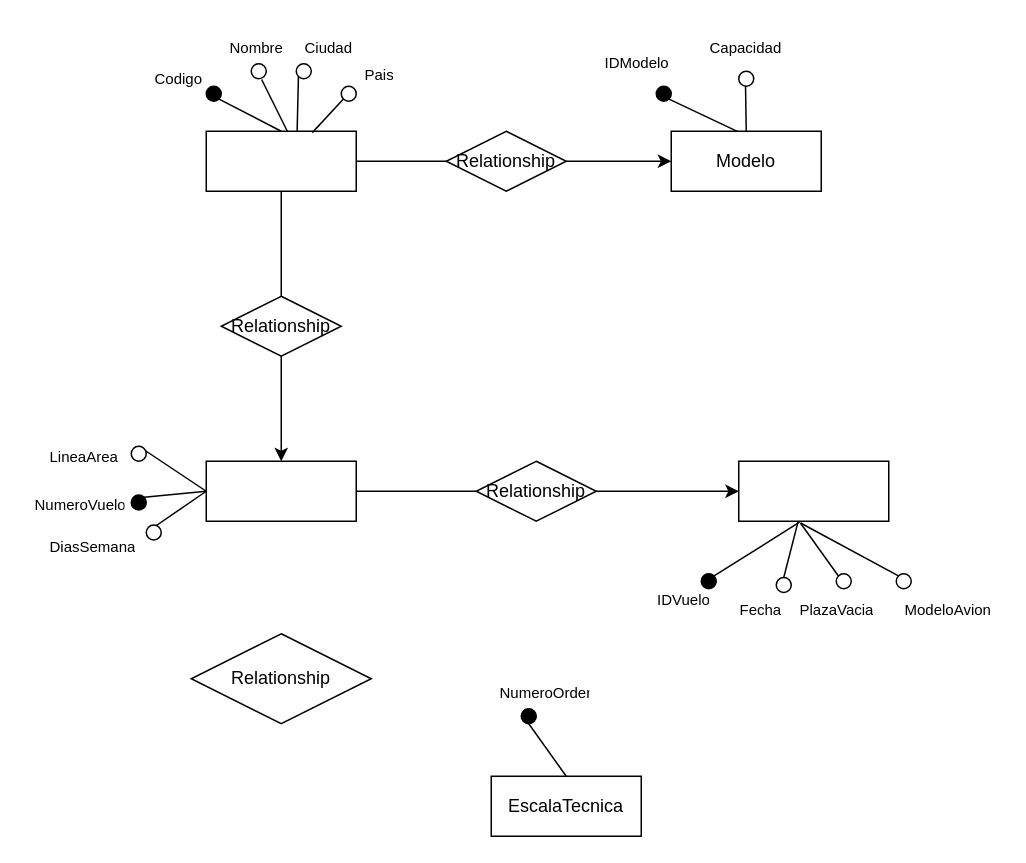
This 1026x863 diagram has some shape labels left out. Each missing label, with the centre of its shape:
"Aeropuerto" goes at point 280,160.
"ProgramaVuelo" goes at point 280,490.
"Vuelo" goes at point 813,490.
